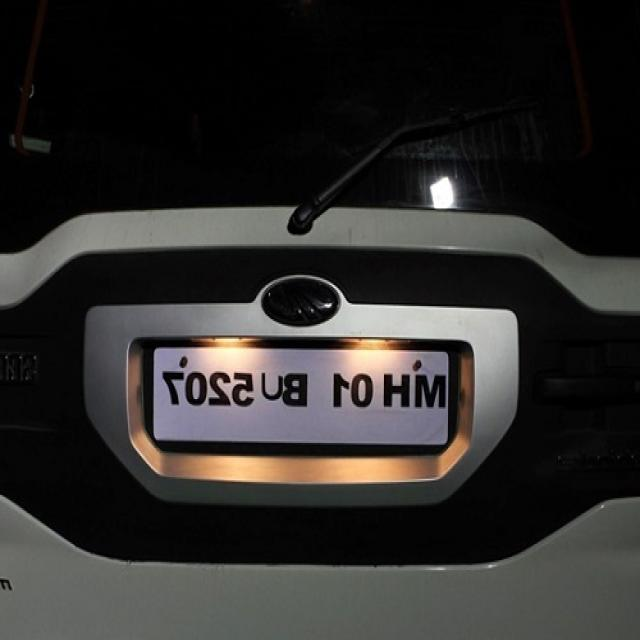number-plate: (99, 290, 501, 484)
